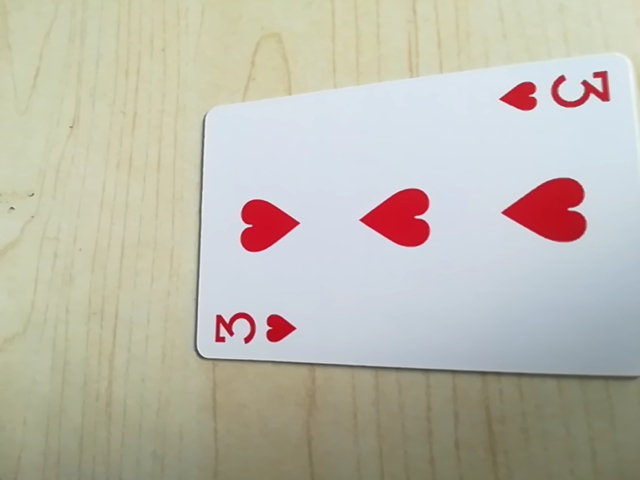hx 3: (500, 63, 619, 121), (209, 302, 302, 355)
